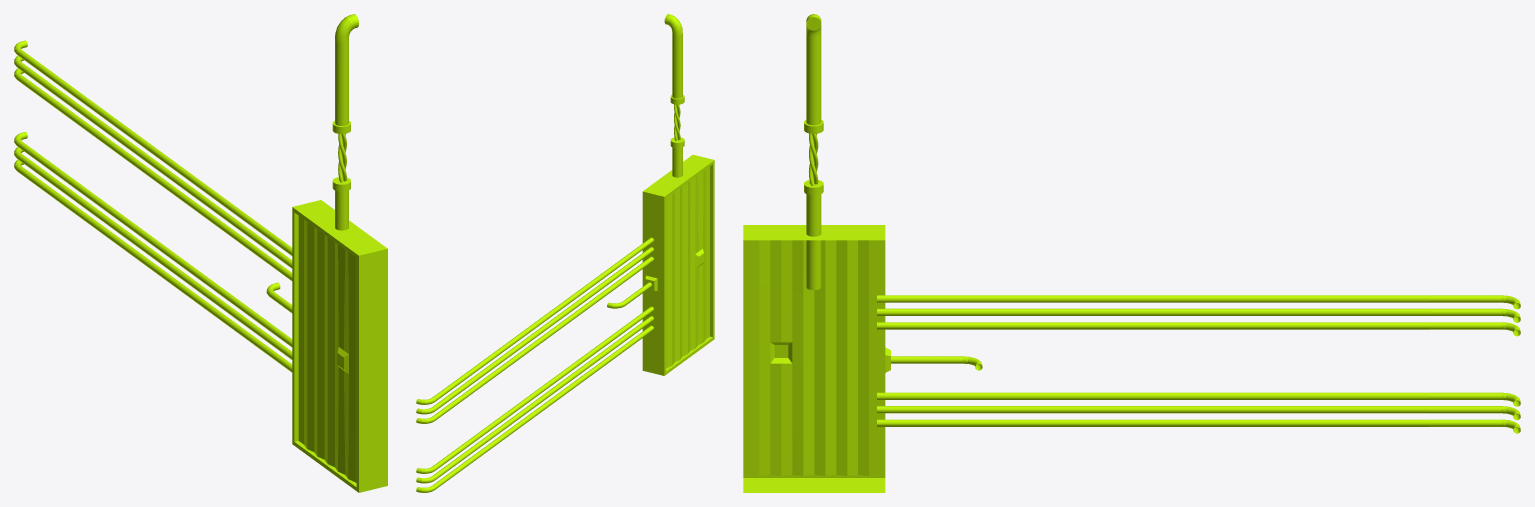
File: electrics-box.fbx
3 views of the same model, side by side, from view 1: azimuth 30°, elevation 25°; view 2: azimuth 150°, elevation 25°; view 3: azimuth 270°, elevation 25° (orthographic). The views are drawn at different scales.
Visible parts, largest first — view 1: electrical box, wire_straight003, wire_straight001, wire_straight, wire_straight002, wire_straight004, wire_straight005, Cylinder054, Cylinder005, wire_curved002, wire_curved005, Cylinder007; view 2: electrical box, wire_straight001, wire_straight003, wire_straight004, wire_straight005, wire_straight002, wire_straight, Cylinder054, Cylinder005; view 3: electrical box, wire_straight, wire_straight001, wire_straight002, wire_straight005, wire_straight003, wire_straight004, Cylinder054, Cylinder005.
Part boxes in pixels (x1,y1,x2,y2): electrical box: [292, 200, 387, 492]; wire_straight003: [50, 190, 292, 372]; wire_straight001: [50, 86, 292, 268]; wire_straight: [50, 99, 292, 280]; wire_straight002: [50, 74, 292, 255]; wire_straight004: [50, 178, 292, 359]; wire_straight005: [50, 165, 292, 347]; Cylinder054: [332, 14, 358, 133]; Cylinder005: [332, 177, 350, 230]; wire_curved002: [14, 40, 54, 79]; wire_curved005: [14, 132, 54, 170]; Cylinder007: [338, 134, 346, 182]; electrical box: [642, 154, 714, 375]; wire_straight001: [458, 247, 653, 391]; wire_straight003: [458, 325, 653, 470]; wire_straight004: [458, 316, 653, 460]; wire_straight005: [458, 306, 653, 451]; wire_straight002: [458, 237, 653, 382]; wire_straight: [458, 256, 653, 401]; Cylinder054: [664, 14, 684, 104]; Cylinder005: [670, 137, 684, 177]; electrical box: [743, 225, 890, 492]; wire_straight: [877, 322, 1429, 329]; wire_straight001: [877, 308, 1429, 315]; wire_straight002: [877, 295, 1429, 302]; wire_straight005: [877, 392, 1429, 399]; wire_straight003: [877, 419, 1429, 426]; wire_straight004: [877, 406, 1429, 413]; Cylinder054: [804, 14, 823, 133]; Cylinder005: [804, 180, 823, 290].
Size of the model in its own units: 3 by 41.75 by 61.77.
